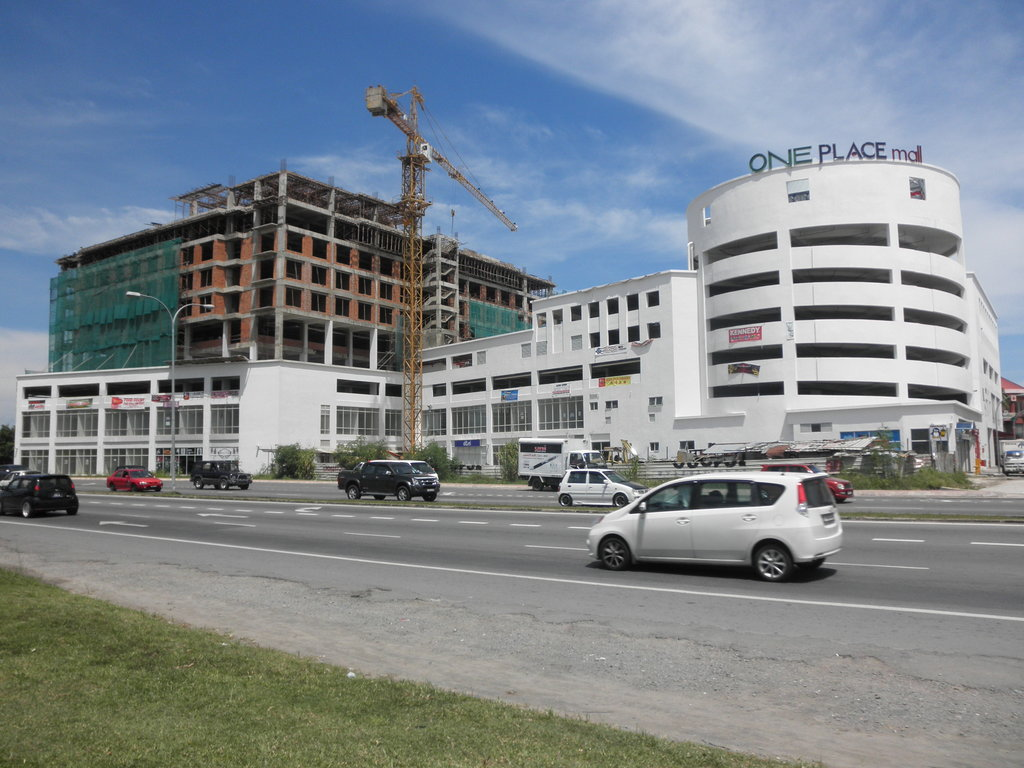Car: (585, 469, 843, 579), (760, 465, 853, 503), (558, 467, 648, 506), (0, 474, 78, 515), (189, 460, 251, 489), (106, 468, 162, 494), (0, 471, 40, 489)
